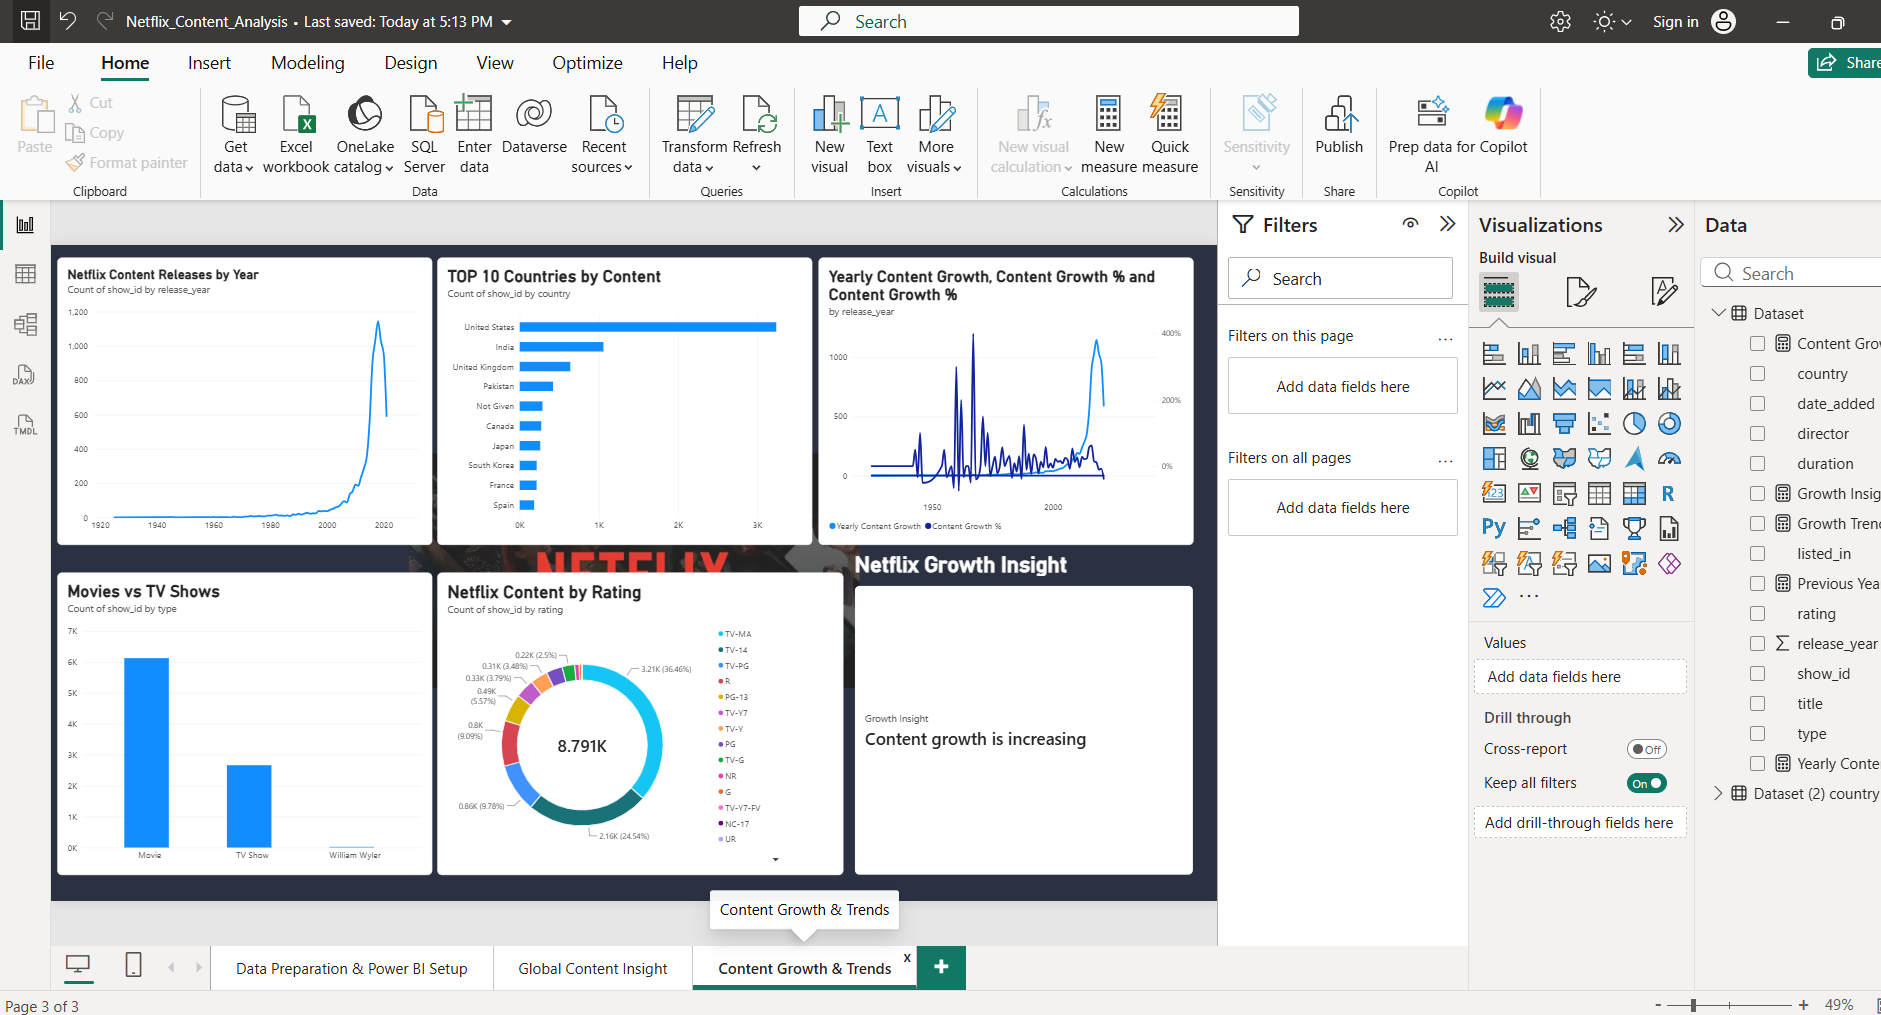

Layout of this report page (visuals, bound fields, positions):
{"tool":"powerbi","page":{"name":"Content Growth & Trends","canvas":[1920,1080],"ordinal":2},"visuals":[{"type":"lineChart","title":"Netflix Content Releases by Year","fields":{"Category":["Dataset.release_year"],"Y":["CountNonNull(Dataset.show_id)"]},"box":[10.3,20.6,617.5,473.4],"z":0},{"type":"clusteredColumnChart","title":"Movies vs TV Shows","fields":{"Category":["Dataset.type"],"Y":["CountNonNull(Dataset.show_id)"]},"box":[10.3,539.3,617.5,498.1],"z":1000},{"type":"clusteredBarChart","title":"TOP 10 Countries by Content","fields":{"Category":["Dataset.country"],"Y":["CountNonNull(Dataset.show_id)"]},"box":[636,20.6,617.5,473.4],"z":2000},{"type":"donutChart","title":"Netflix Content by Rating","fields":{"Category":["Dataset.rating"],"Y":["CountNonNull(Dataset.show_id)"]},"box":[636,539.3,669,498.1],"z":3000},{"type":"lineChart","fields":{"Category":["Dataset.release_year"],"Y":["Dataset.Yearly Content Growth","Dataset.Content Growth %"],"Y2":["Dataset.Content Growth %"]},"box":[1263.8,20.6,617.5,473.4],"z":4000},{"type":"cardVisual","title":"Netflix Growth Insight","fields":{"Data":["Dataset.Growth Insight"]},"box":[1323.5,504.3,557.8,533.1],"z":5000}]}

Visuals, with their boxes on the page's 1920x1080 design canvas (x1, y1, x2, y2). These are canvas units, not pixel positions in the 1881x1015 screenshot, which may show the page scaled, cropped or inside an application window:
"Netflix Content Releases by Year" lineChart: bbox(10, 21, 628, 494)
"Movies vs TV Shows" clusteredColumnChart: bbox(10, 539, 628, 1037)
"TOP 10 Countries by Content" clusteredBarChart: bbox(636, 21, 1254, 494)
"Netflix Content by Rating" donutChart: bbox(636, 539, 1305, 1037)
lineChart - Dataset.release_year x Dataset.Yearly Content Growth: bbox(1264, 21, 1881, 494)
"Netflix Growth Insight" cardVisual: bbox(1324, 504, 1881, 1037)
